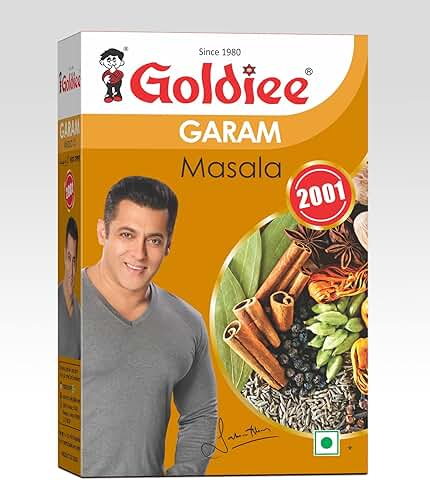Garamasala: (54, 28, 373, 478)
